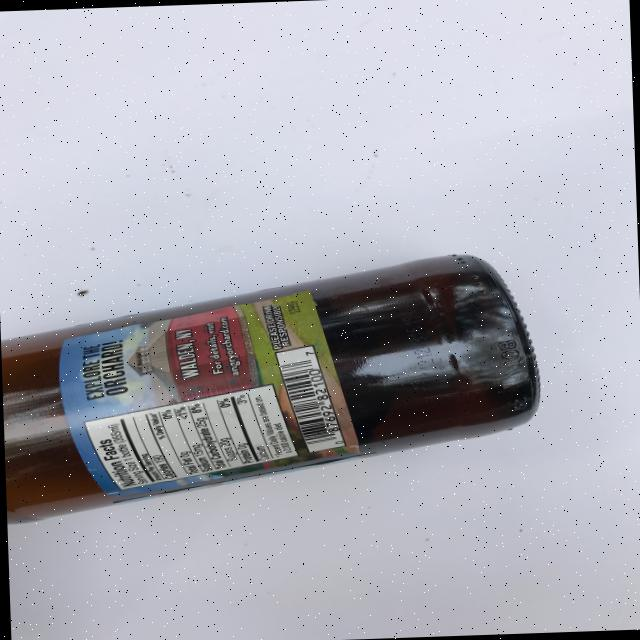glass: (0, 249, 544, 522)
